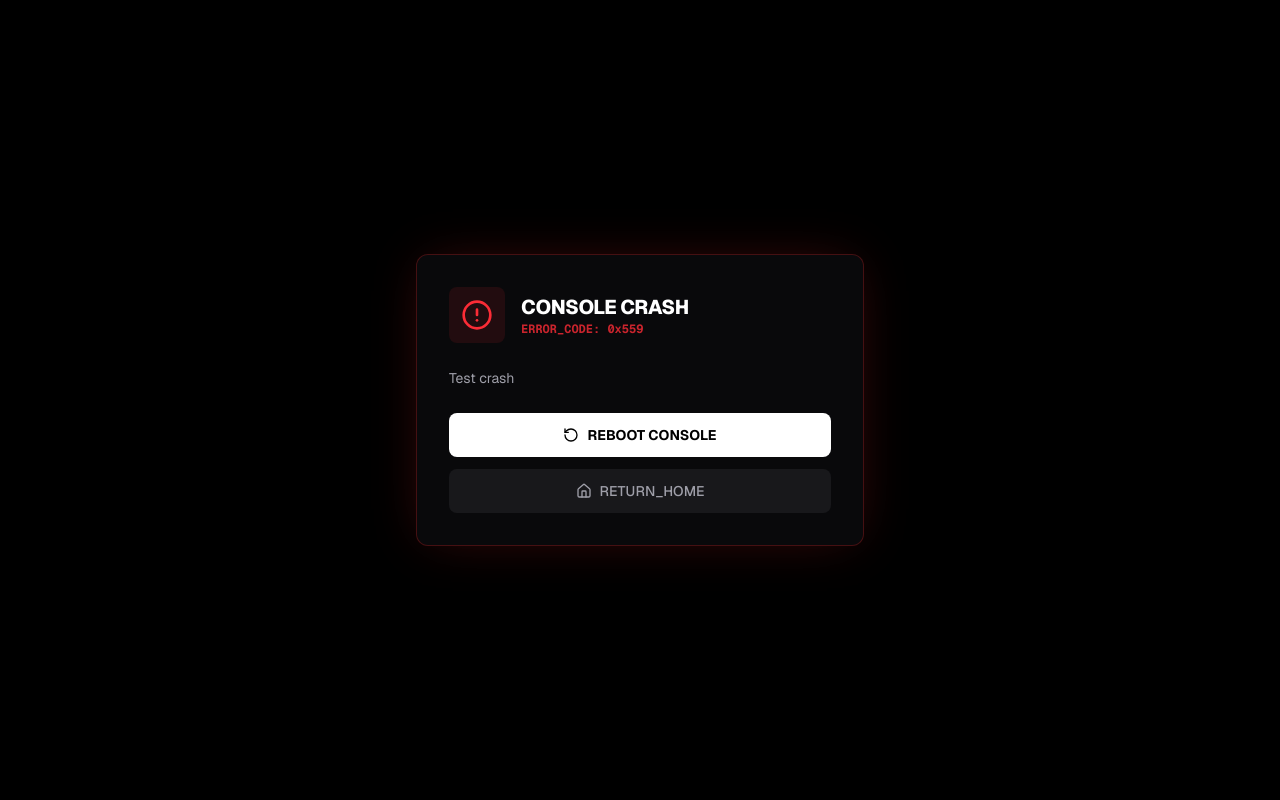
Test: ErrorBoundary accessibility › reset button restores children and clears error state
Click the button "REBOOT CONSOLE" at (640, 435), box [449,413,831,457]
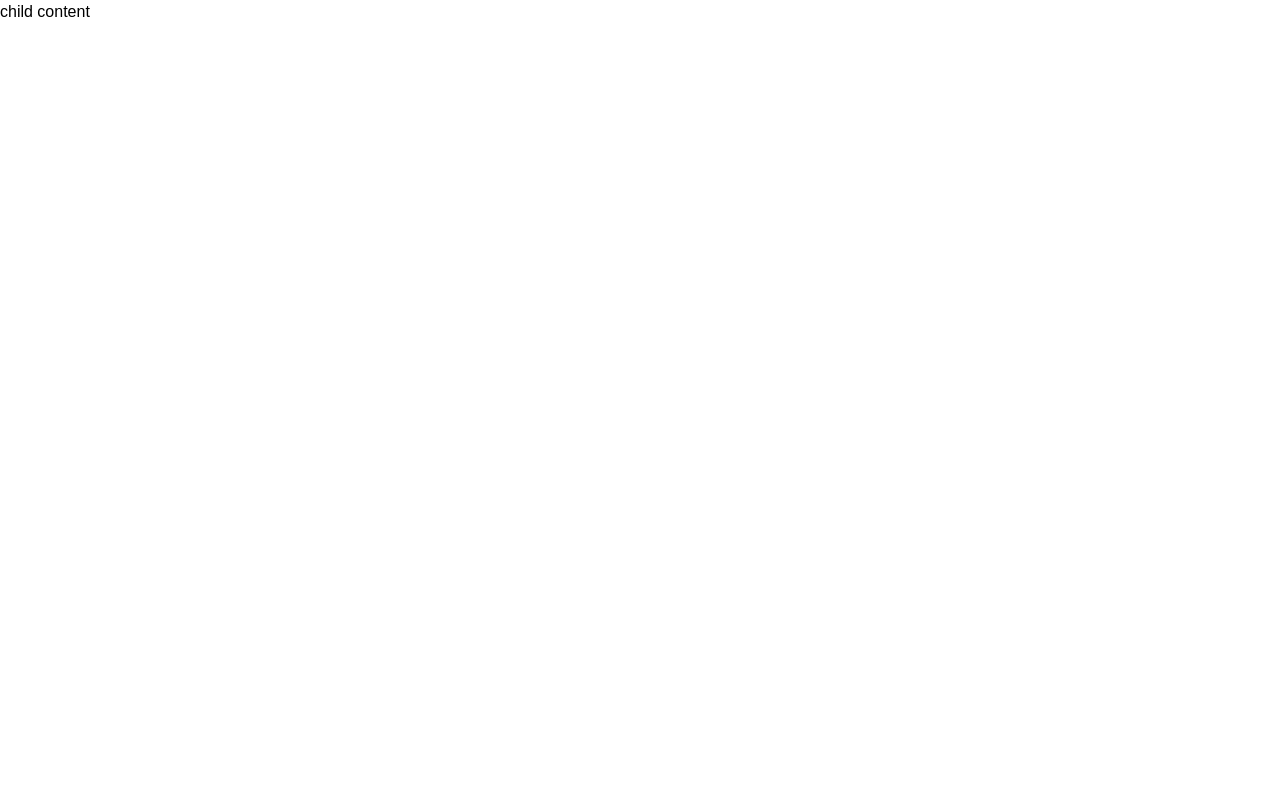
Expected: the text "child content" is shown, [0,3,90,20]
Expected: the message "Console Crash ERROR_CODE: 0x559 Test crash REBOOT CONSOLE RETURN_HOME" is gone
